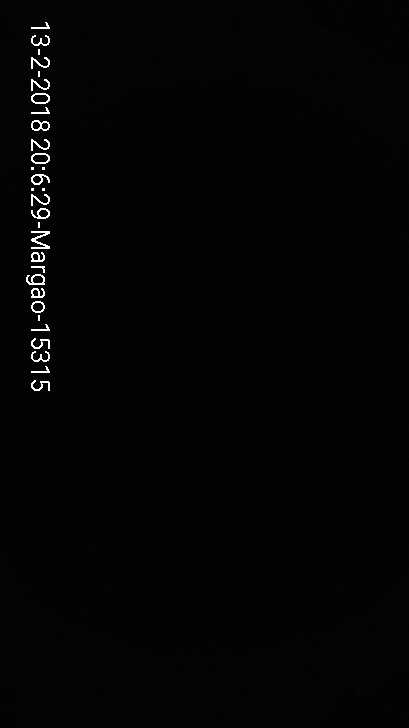reject: (199, 245, 261, 393)
